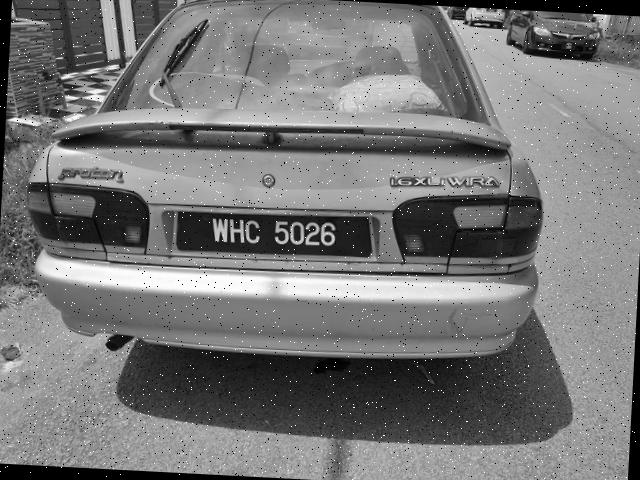License_Plate: (176, 211, 368, 256)
car: (13, 1, 560, 380)
